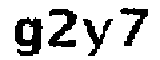2: (43, 6, 80, 49)
7: (117, 6, 151, 51)
g: (8, 15, 43, 60)
y: (79, 16, 116, 59)
